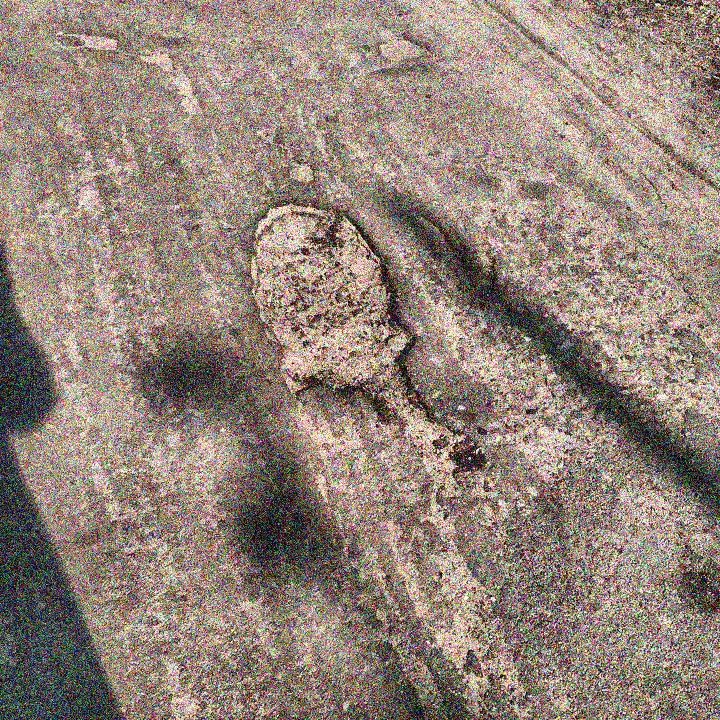pothole: (243, 197, 484, 466), (413, 211, 503, 305), (136, 46, 206, 118), (373, 26, 434, 65), (58, 29, 121, 51), (286, 159, 319, 184)
